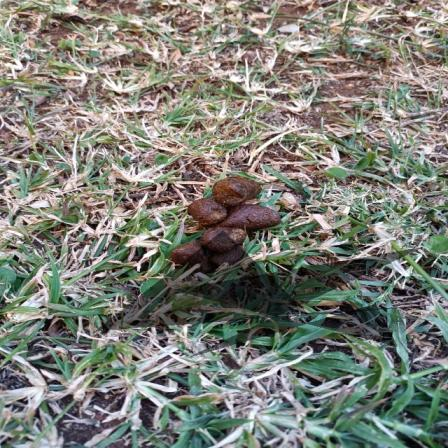dog-poop: (176, 174, 282, 273)
